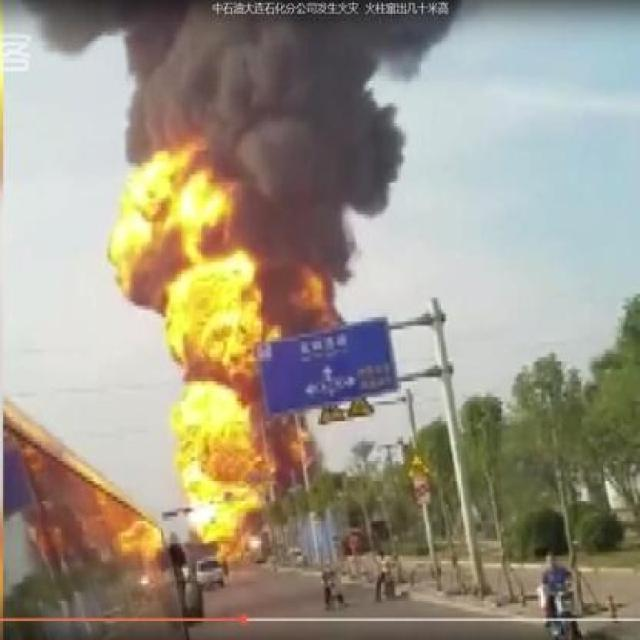Fire: (112, 144, 323, 564)
Smoke: (37, 2, 469, 148), (258, 149, 402, 282)
